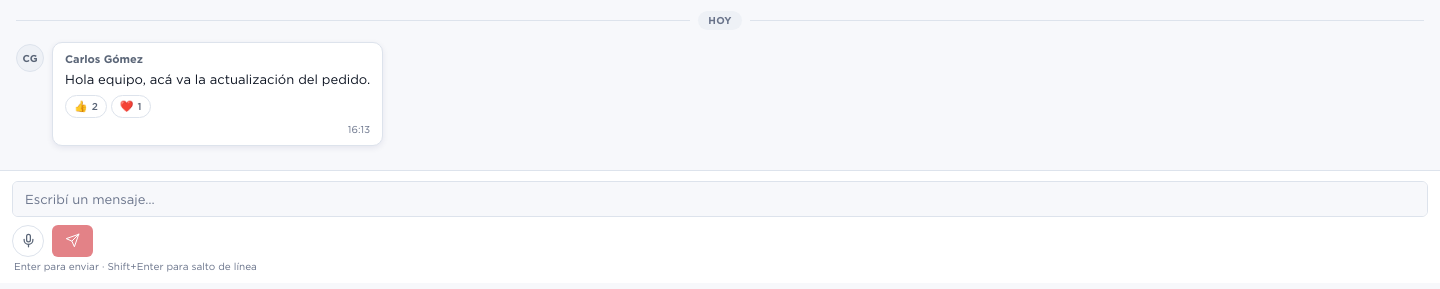
ThreadView · Reacciones Optimistas, Realtime Determinista y Feedback Accesible (HIGH 3) › 1. Operación optimista local: incrementa inmediatamente contador y activa myReaction
Click the button "👍 2" at (86, 106), box [65, 95, 107, 118]
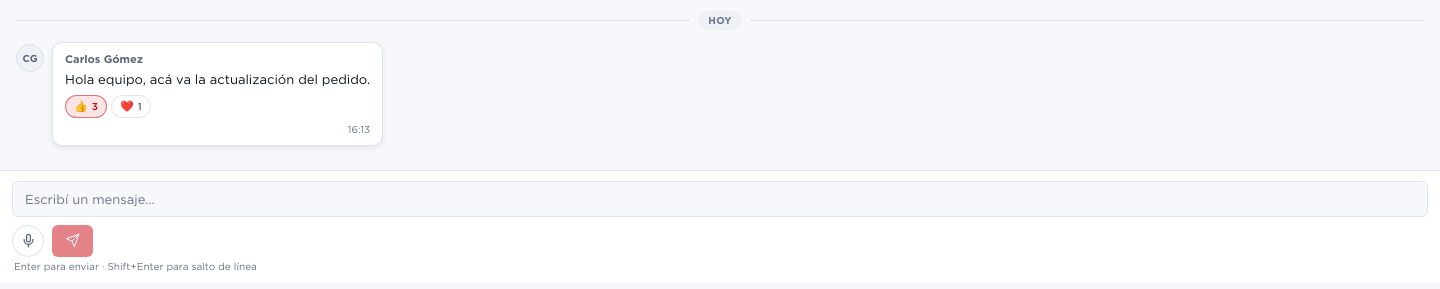
Now the button "👍 3" is shown, box [65, 95, 107, 118]
